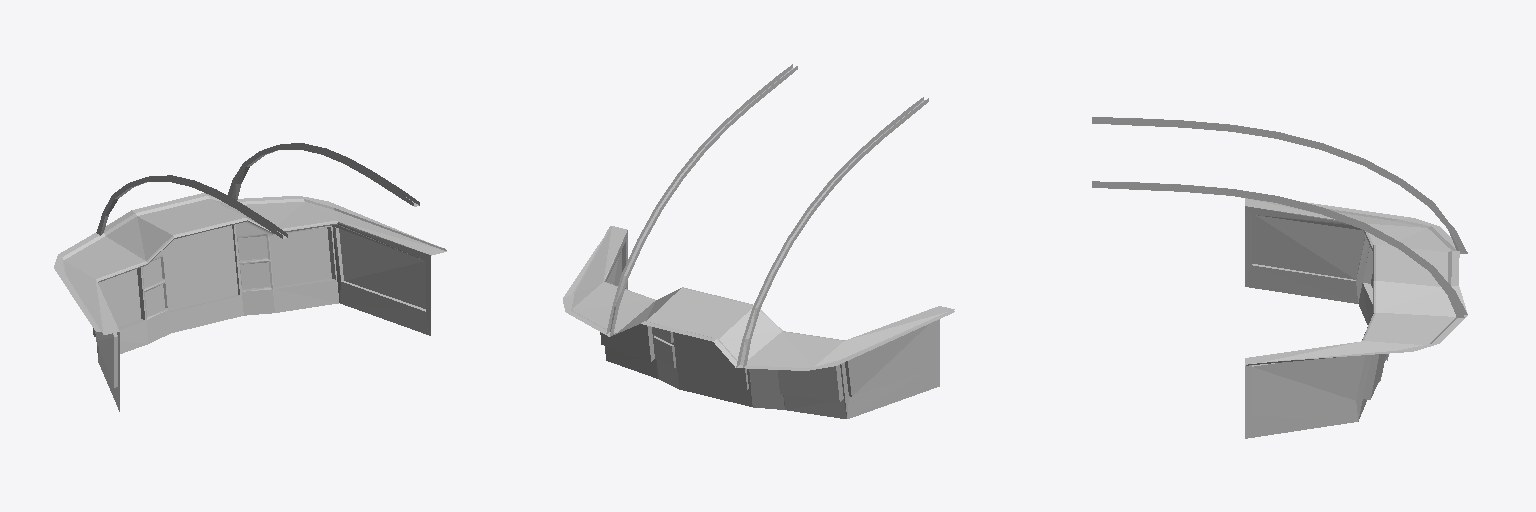
File: v_cpit.obj
The picture shows the model from 3 angles: view 1: azimuth 30°, elevation 25°; view 2: azimuth 150°, elevation 25°; view 3: azimuth 270°, elevation 25°; orthographic projection.
Visible parts, largest first — view 1: default1; view 2: default1; view 3: default1.
Part boxes in pixels (x1,y1,x2,y2): default1: (54,143,446,411); default1: (563,64,954,418); default1: (1092,117,1467,438).
Bounding box in the file's own units: 9.82 × 5.72 × 9.22.